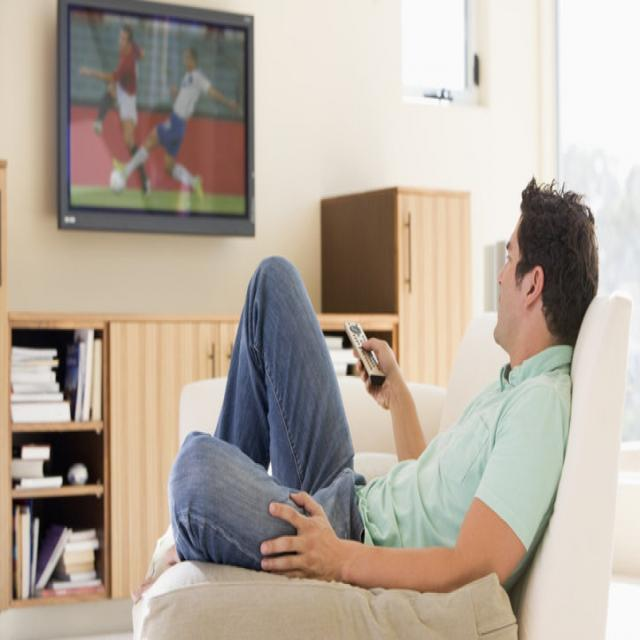tv-person: (45, 0, 607, 589)
